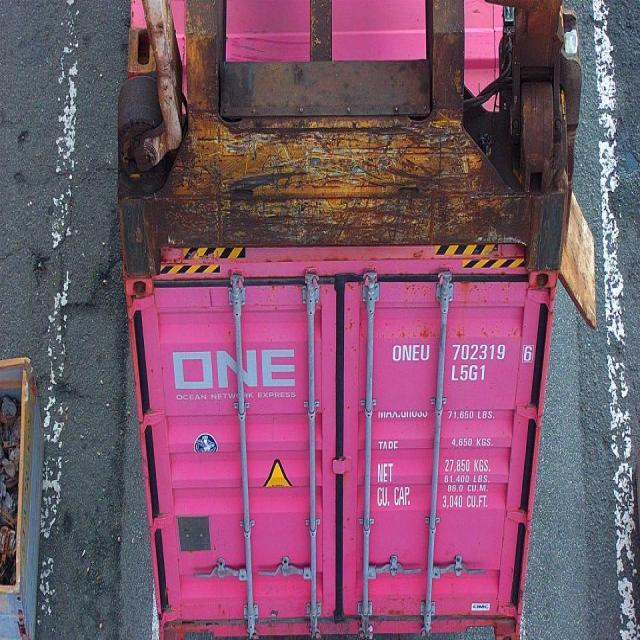ISO: (449, 364, 486, 382)
container_number: (392, 342, 532, 362)
